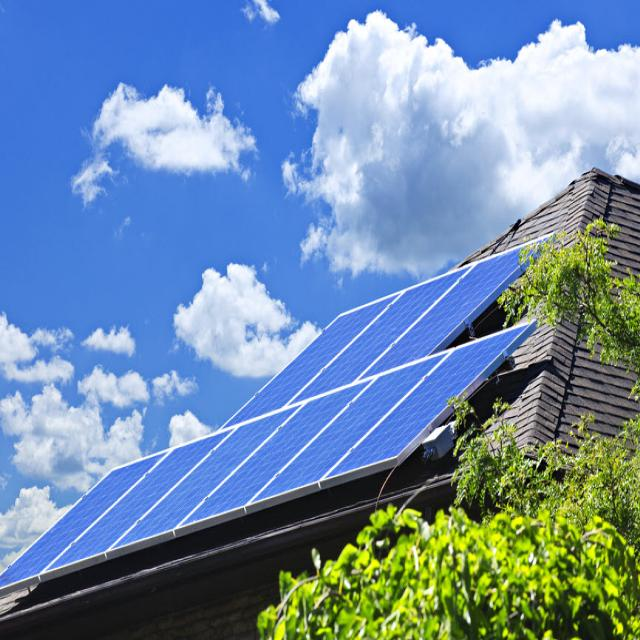clean-solar-panel: (0, 249, 534, 593)
